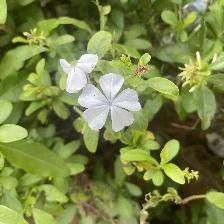chitrak: (82, 75, 140, 135), (60, 53, 100, 92)
